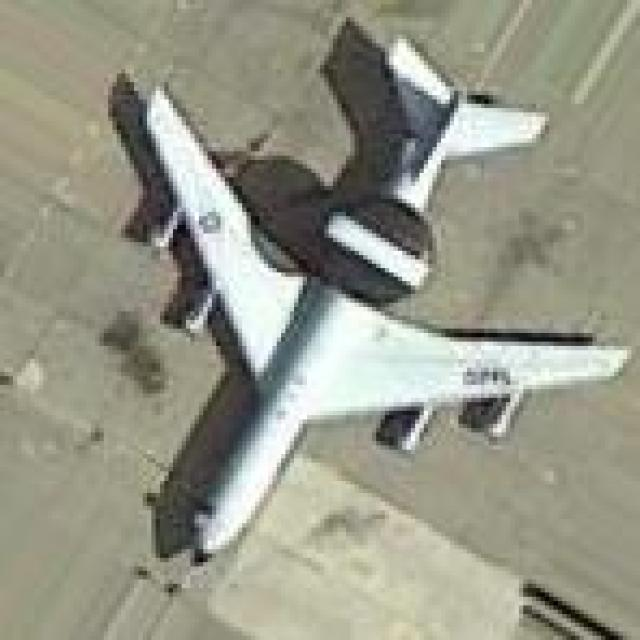E-3_TopDown: (99, 13, 632, 566)
